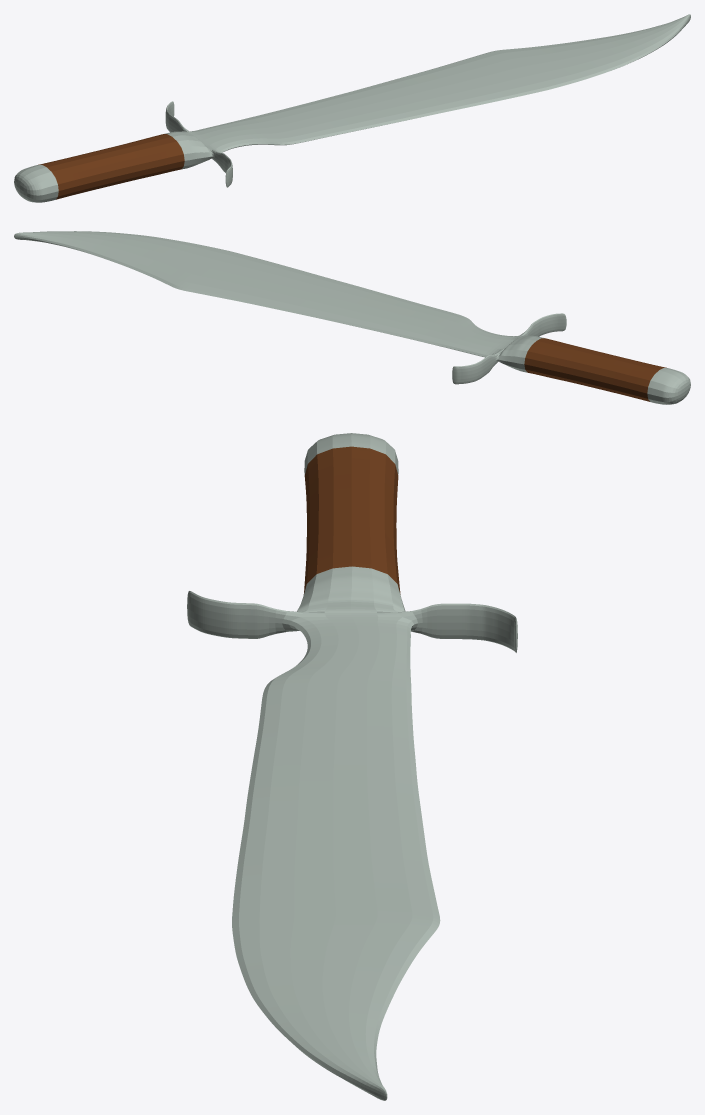
Rendered from normalknife.fbx.
The picture shows the model from 3 angles, top to bottom: view 1: azimuth 30°, elevation 25°; view 2: azimuth 150°, elevation 25°; view 3: azimuth 270°, elevation 25°; orthographic projection. The views are drawn at different scales.
Visible parts, largest first — view 1: Cube; view 2: Cube; view 3: Cube.
Boxes of the visible parts, <box> form: Cube: <box>14,14,690,202</box>; Cube: <box>14,231,690,404</box>; Cube: <box>187,433,517,1100</box>.
Size of the model in its own units: 991 by 42.19 by 214.
